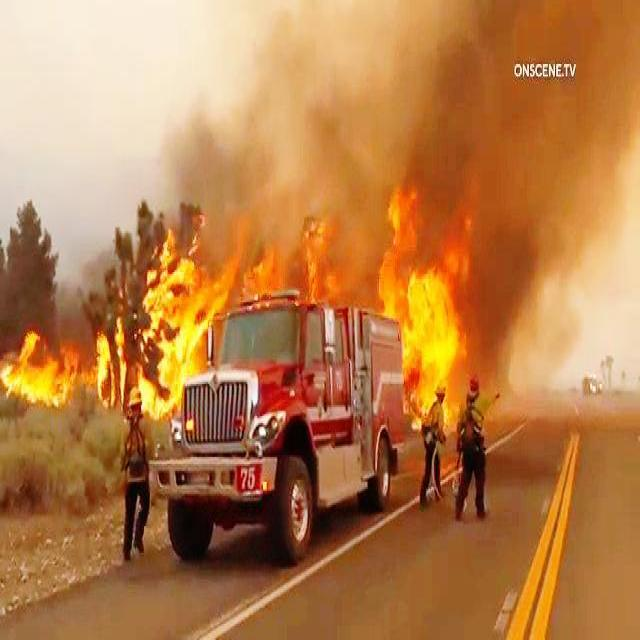Fire: (93, 206, 223, 436), (381, 217, 471, 406), (265, 212, 357, 300), (3, 332, 96, 414)
Smoke: (162, 0, 481, 216), (476, 1, 638, 388)
